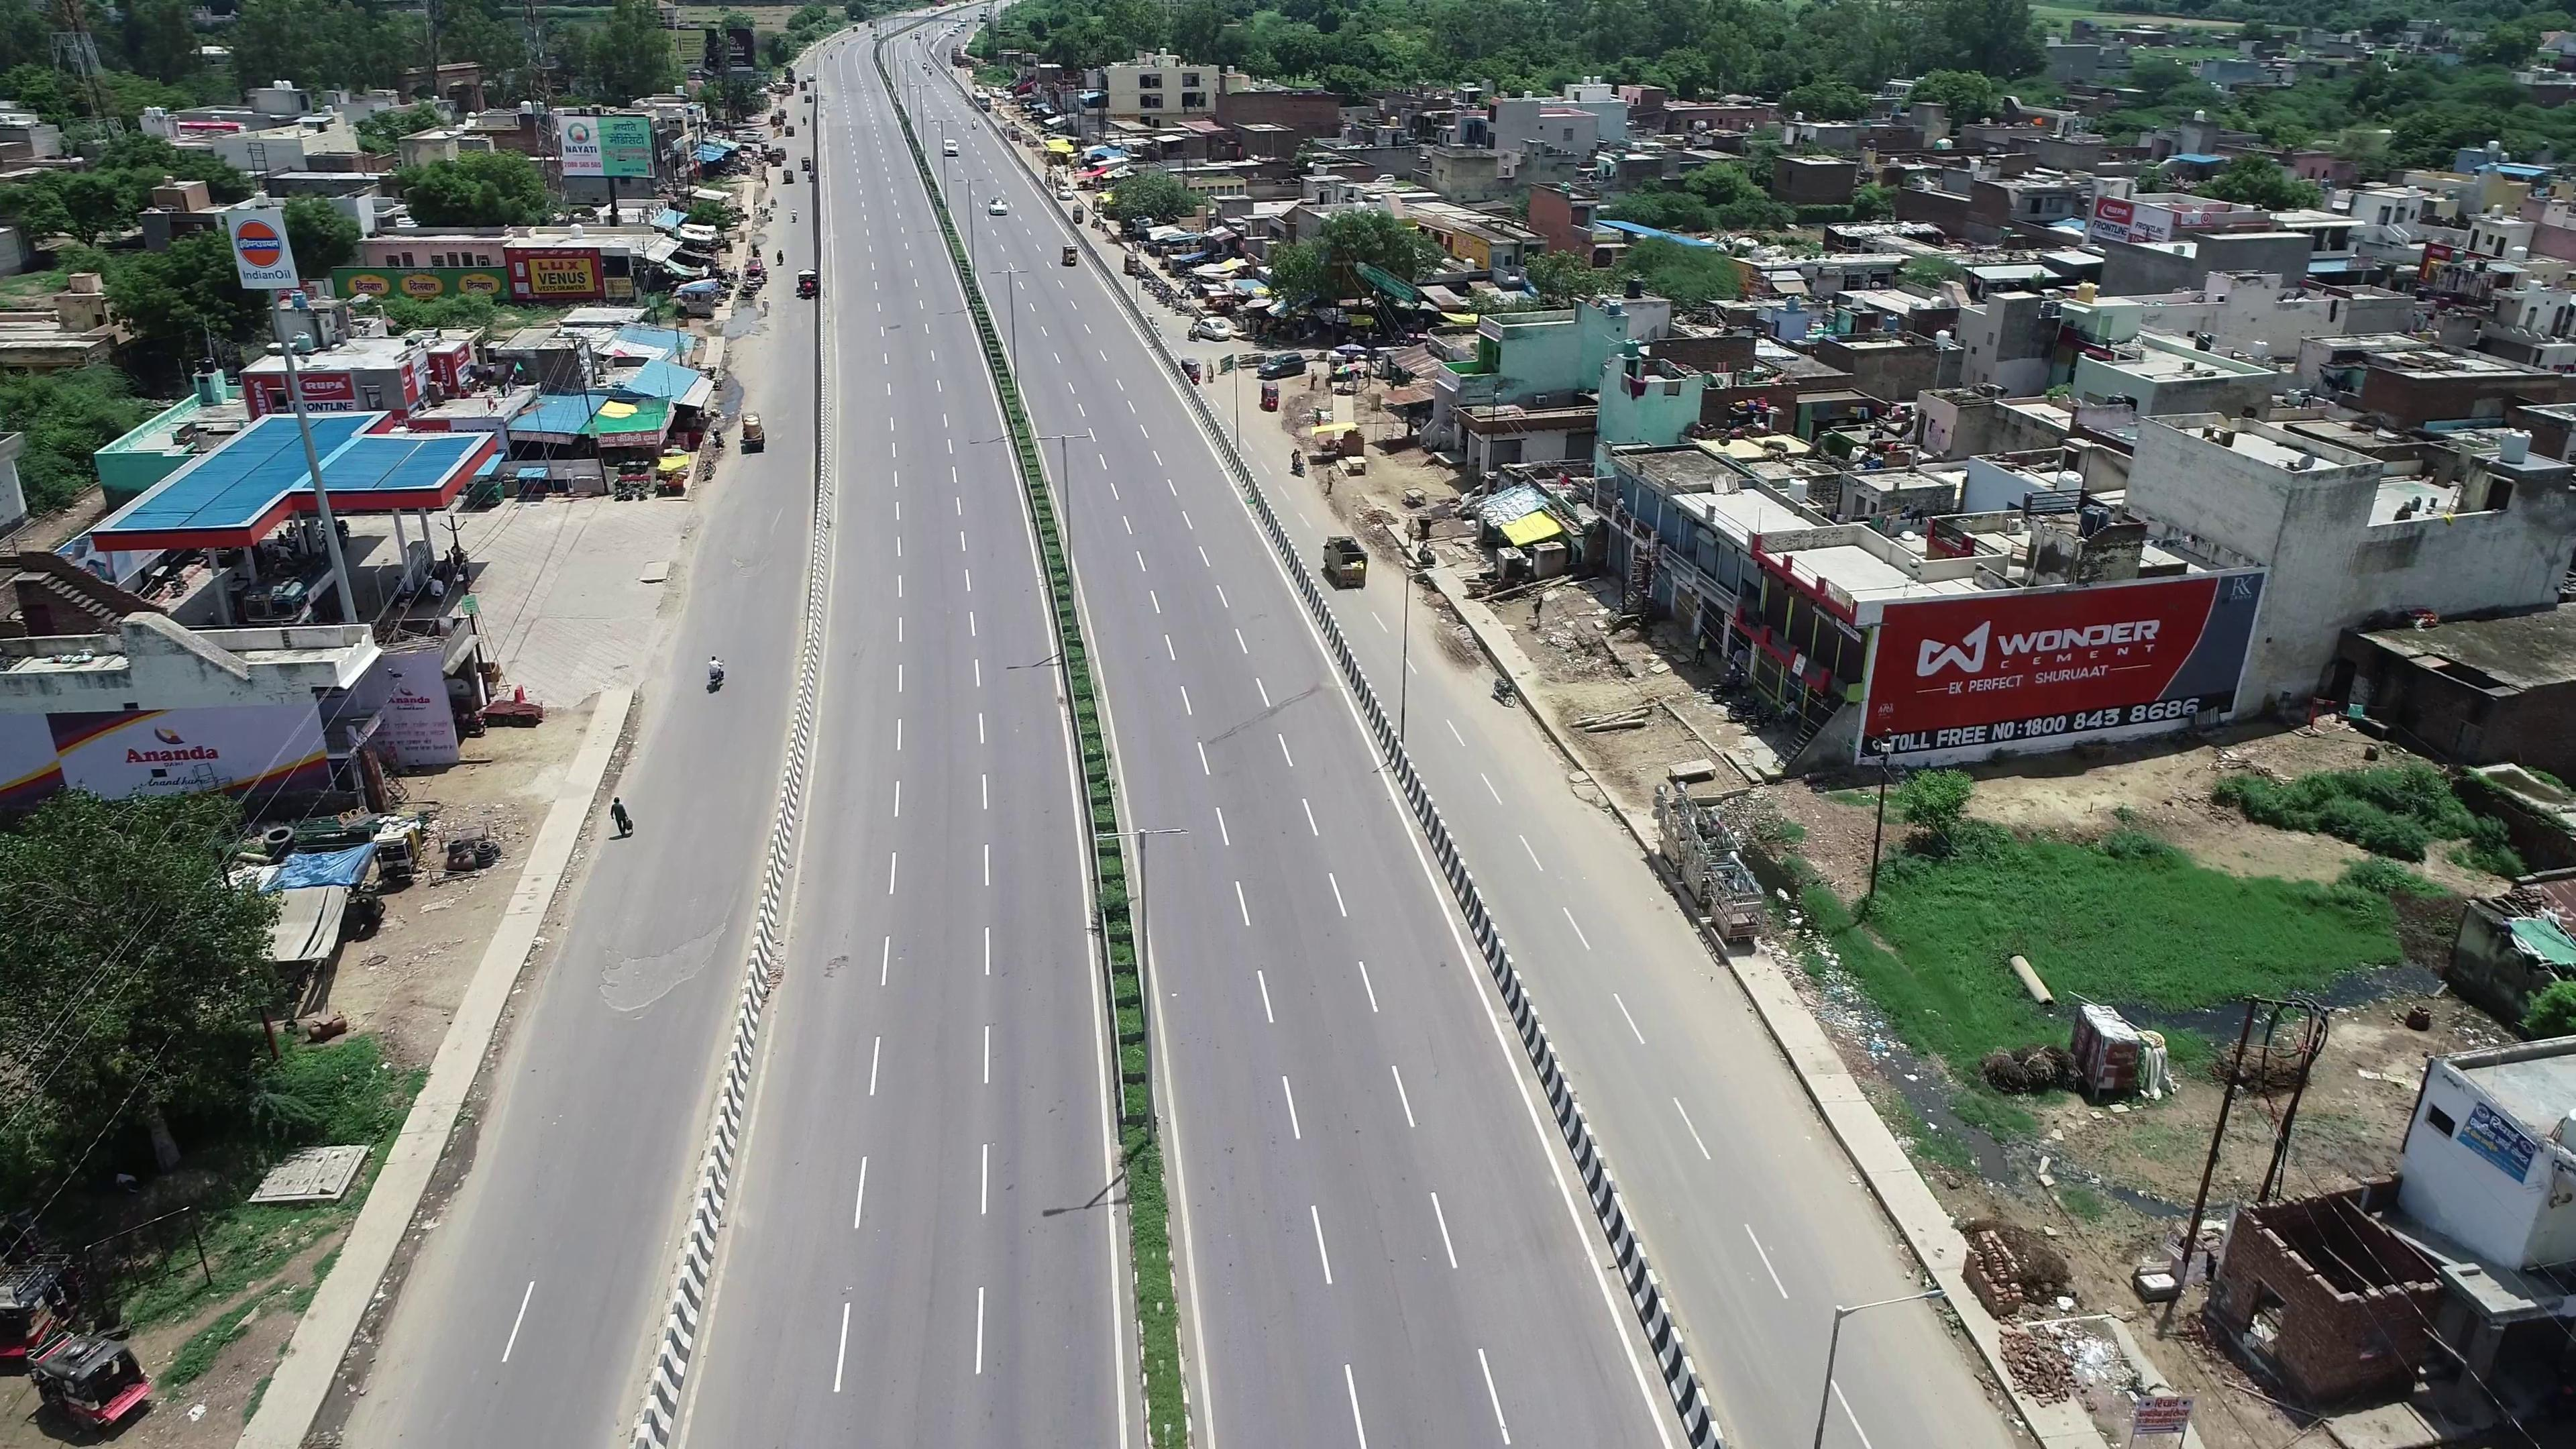Potholes: (570, 892, 727, 1031)
